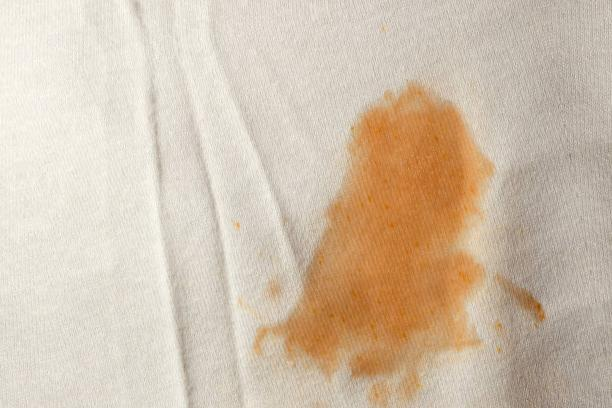stain: (248, 78, 494, 408), (491, 267, 554, 337)
